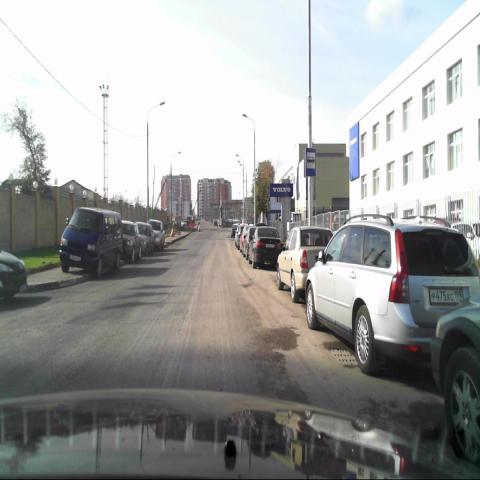5_16: (305, 147, 315, 176)
